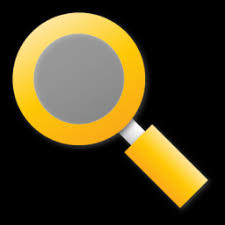searchIcon: (11, 10, 208, 208)
